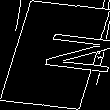N_W: (9, 30, 101, 80)
